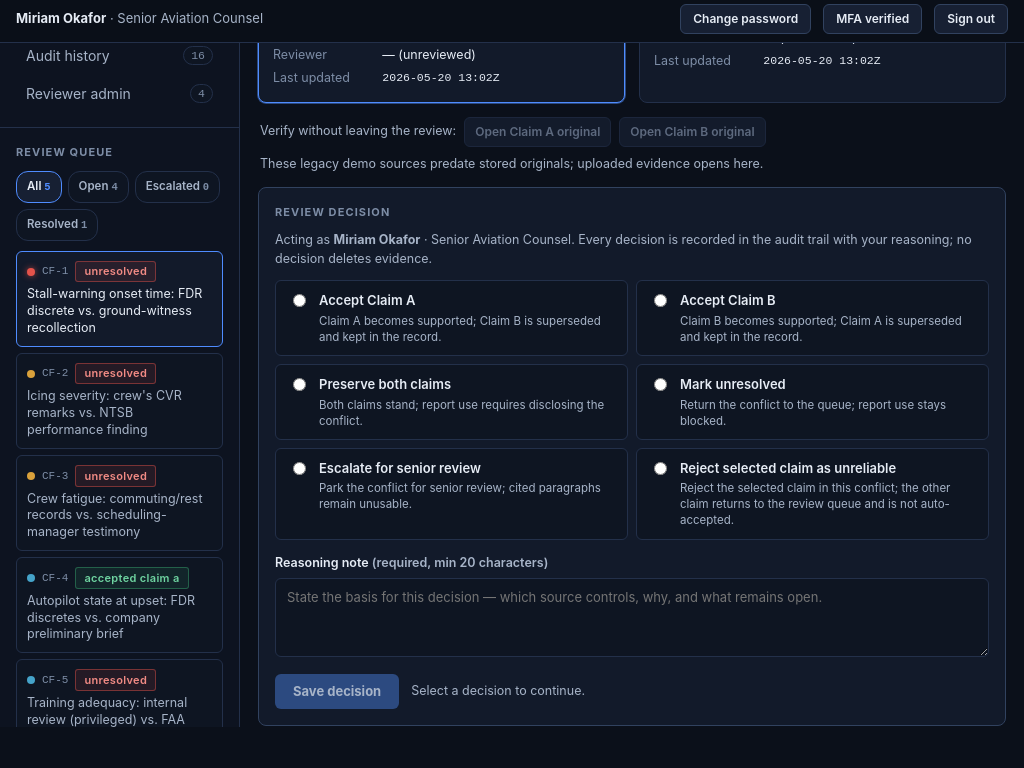
server mode › routes decisions through the API and applies the server's entities
This screenshot has width=1024, height=768.
(page scrolled)
Click the radio button labelled "Preserve both claims": (300, 384) left=293, top=378, right=306, bottom=391
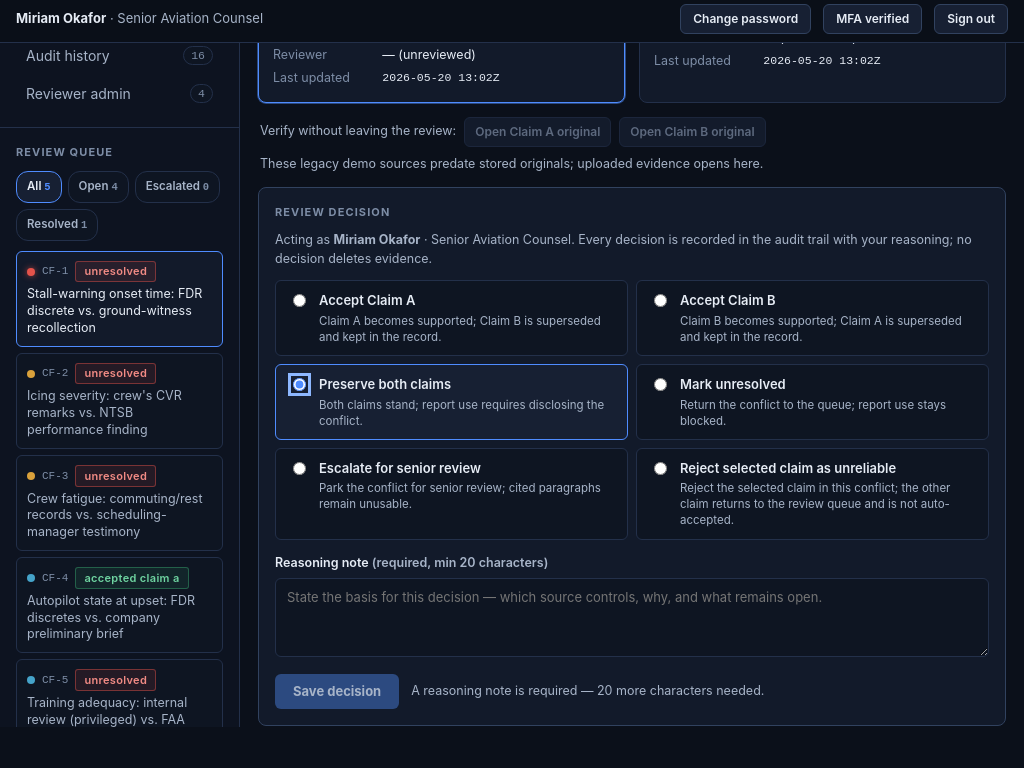
In the text box labelled "Reasoning note (required, min 20 characters)": (632, 618) left=275, top=578, right=989, bottom=657, type "Both accounts preserved pending expert reconciliation of the timeline."
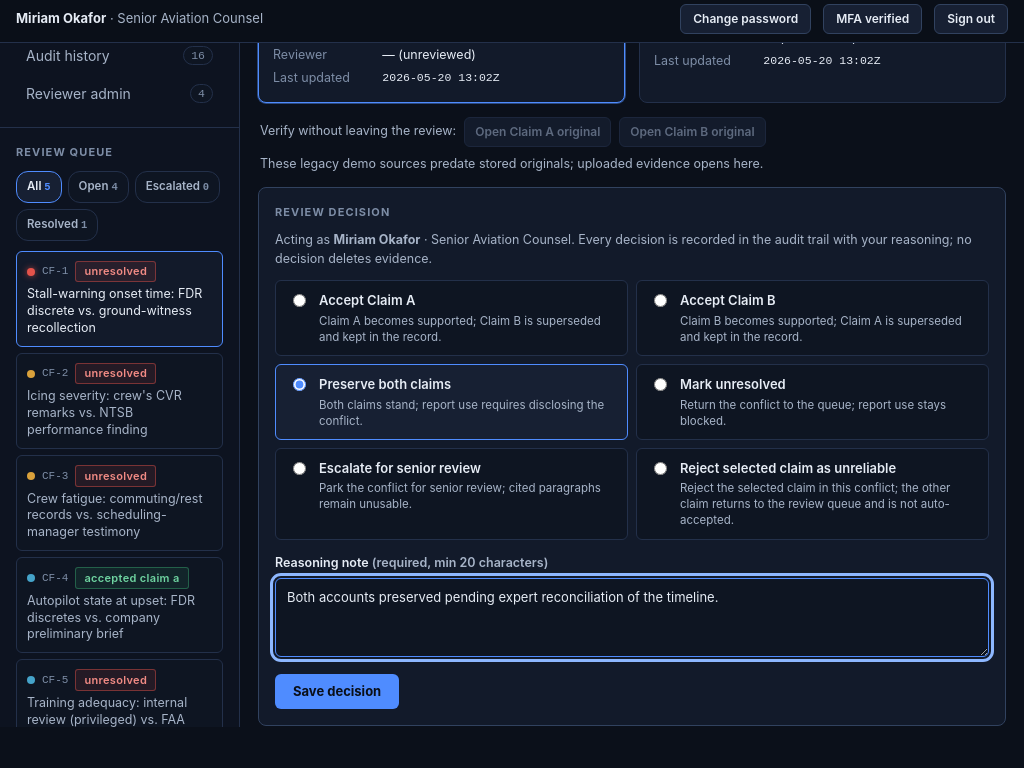
Click the button "Save decision": (337, 692) left=275, top=674, right=399, bottom=709
(page scrolled)
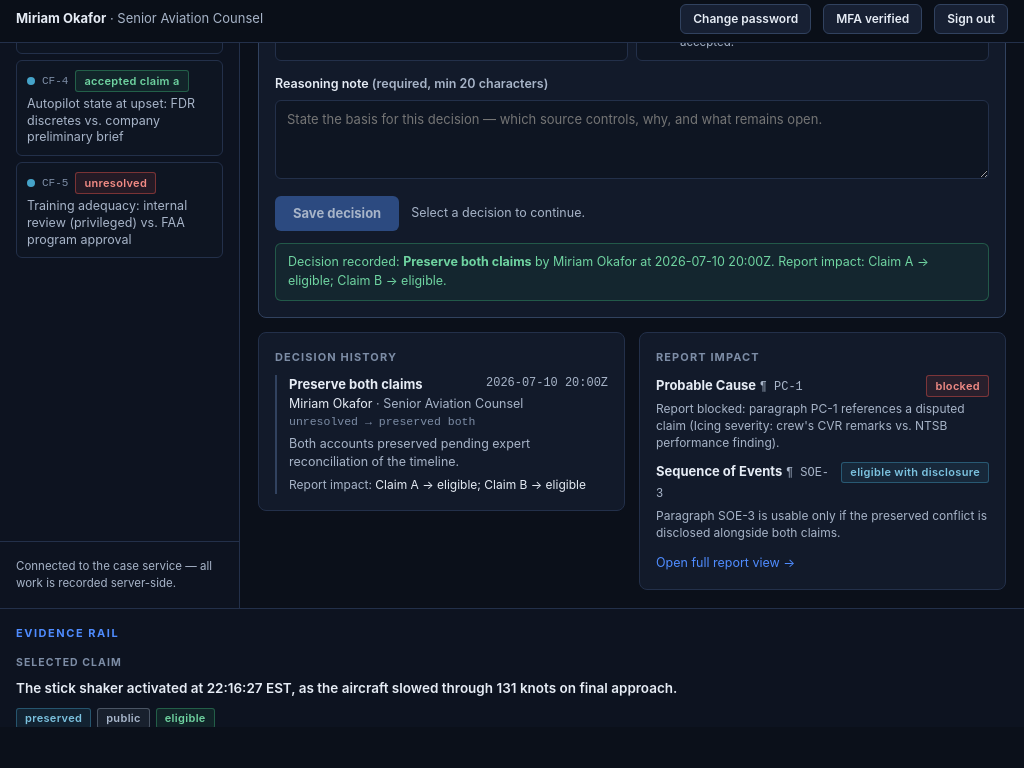
Expected: the message shows "Decision recorded: Preserve both claims", left=275, top=243, right=989, bottom=300
Expected: the text "Preserve both claims" below "Decision history" is shown, left=289, top=376, right=423, bottom=392
